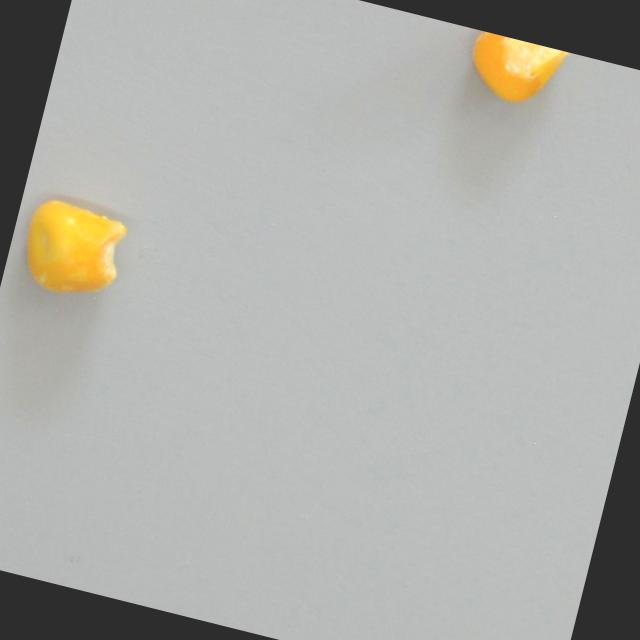no_canjicado: (12, 192, 132, 309)
no_desgerminado: (461, 29, 569, 113)
